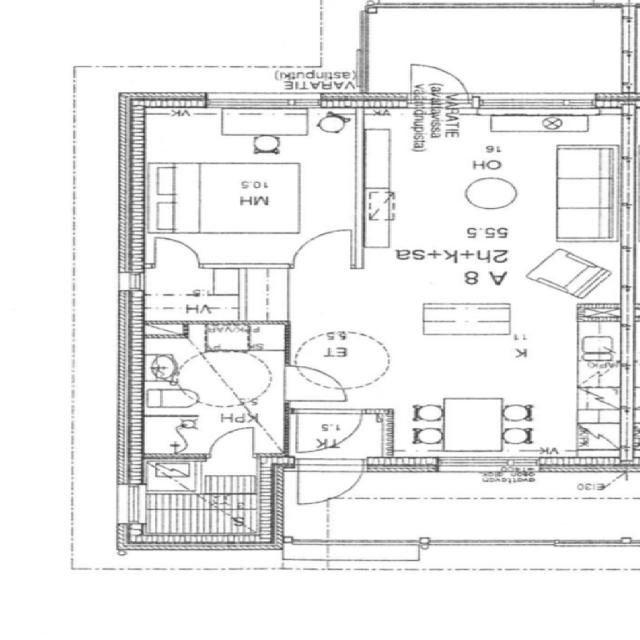door: (298, 456, 362, 511), (296, 409, 361, 453), (411, 59, 467, 108), (294, 229, 350, 268), (283, 366, 346, 400), (208, 425, 254, 462), (154, 236, 198, 268)
